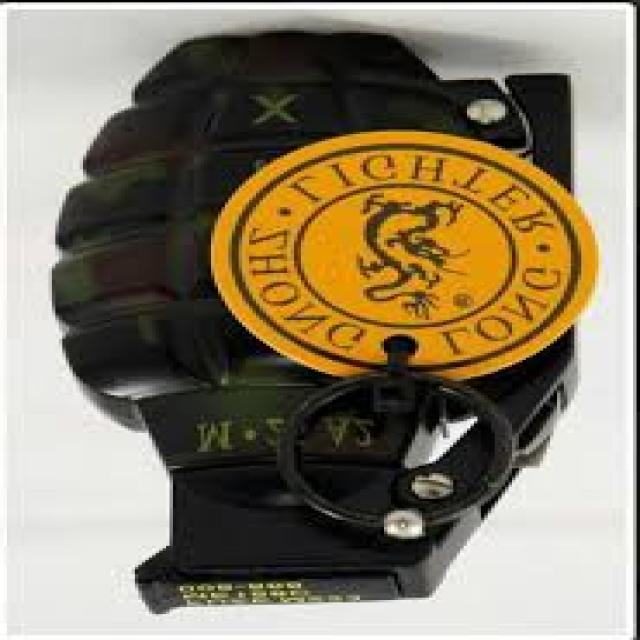grenade: (41, 24, 598, 621)
